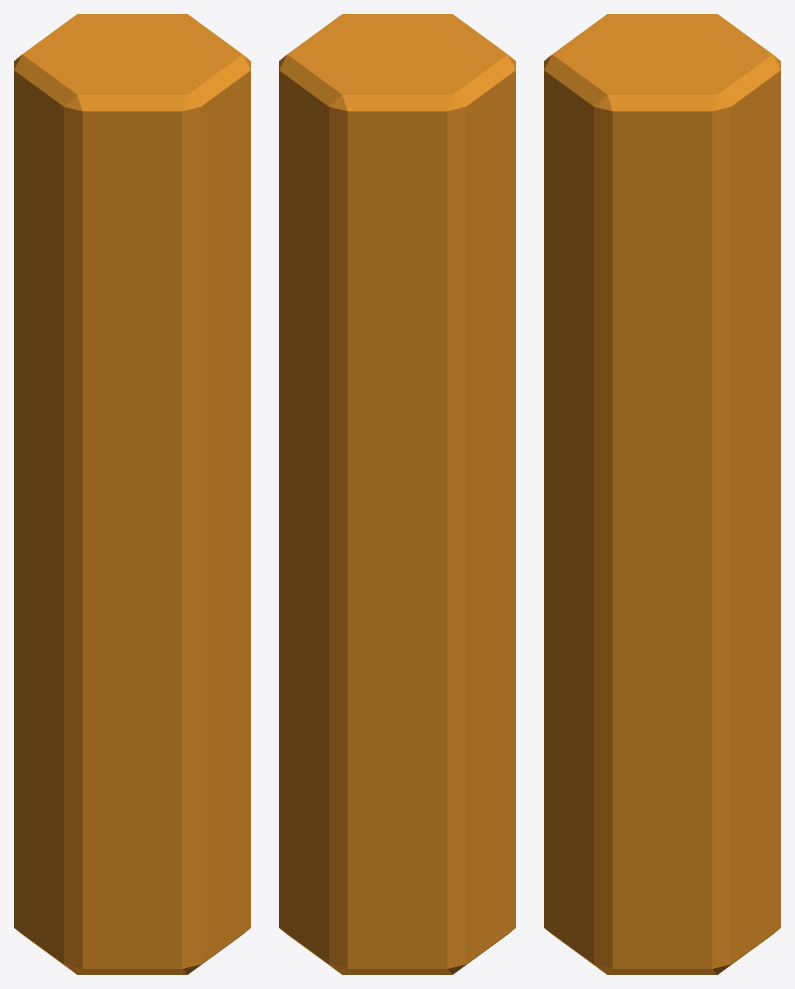
Rendered from enemy_pillar.glb.
3 renders of one model, left to right at view 1: azimuth 30°, elevation 25°; view 2: azimuth 150°, elevation 25°; view 3: azimuth 270°, elevation 25°, orthographic.
Visible parts, largest first — view 1: enemy_pillar-col; view 2: enemy_pillar-col; view 3: enemy_pillar-col.
Part boxes in pixels (x1,y1,x2,y2): enemy_pillar-col: (14,14,250,974); enemy_pillar-col: (279,14,515,974); enemy_pillar-col: (544,14,780,974).
Bounding box in the file's own units: 1.73 × 7.79 × 1.9.
